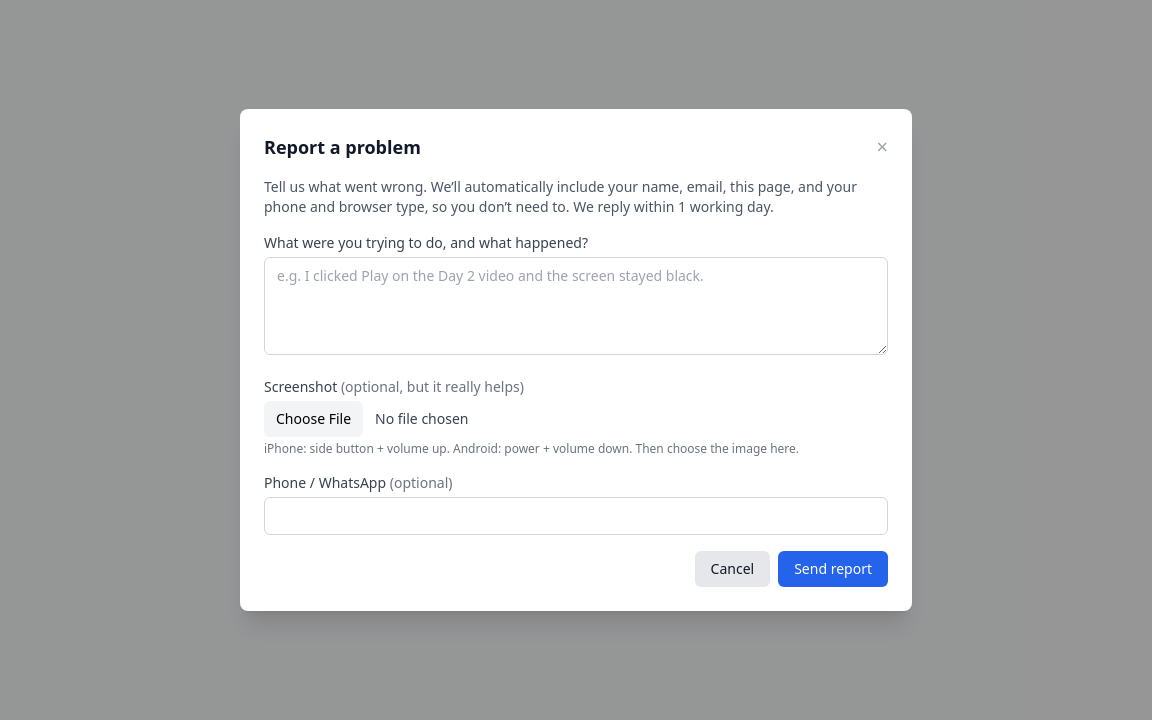
Scenario: ReportProblemDialog › sends the report and shows the reply-time promise
Replace the text in the text box labelled "What were you trying to do, and what happened?" with "The Day 2 video shows a black screen.": (576, 306) x1=264 y1=257 x2=888 y2=355
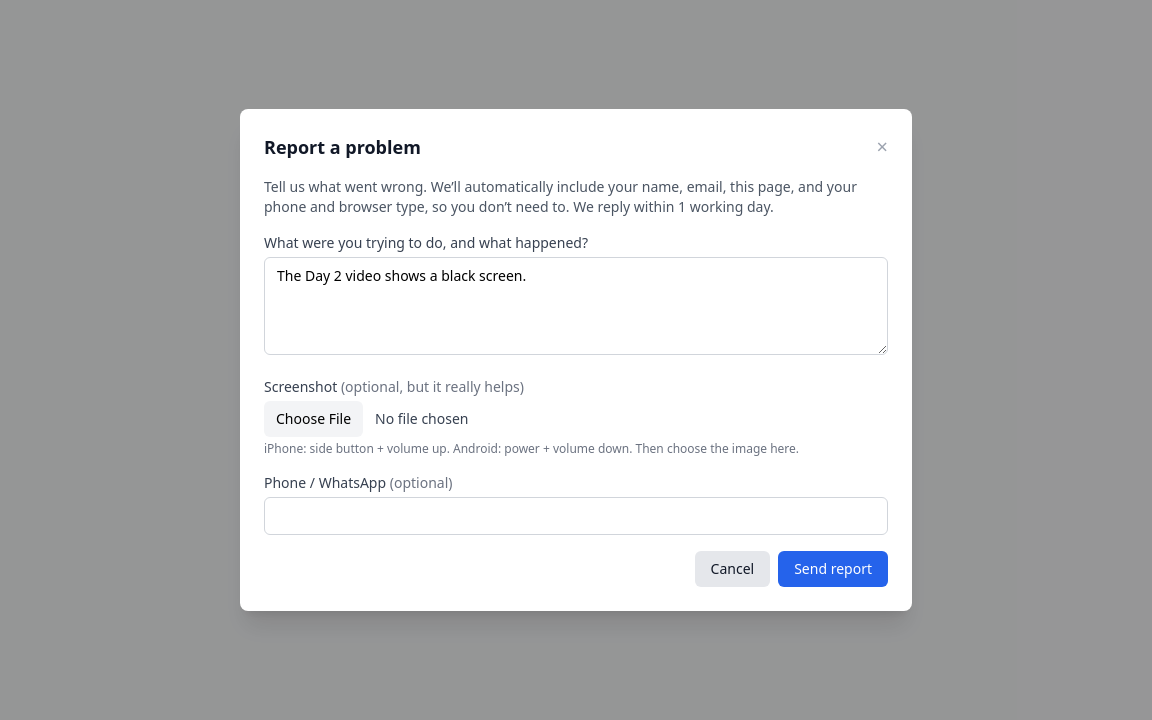
In the field labelled "Phone / WhatsApp (optional)": (576, 516) x1=264 y1=497 x2=888 y2=535, type "0802 735 1990"
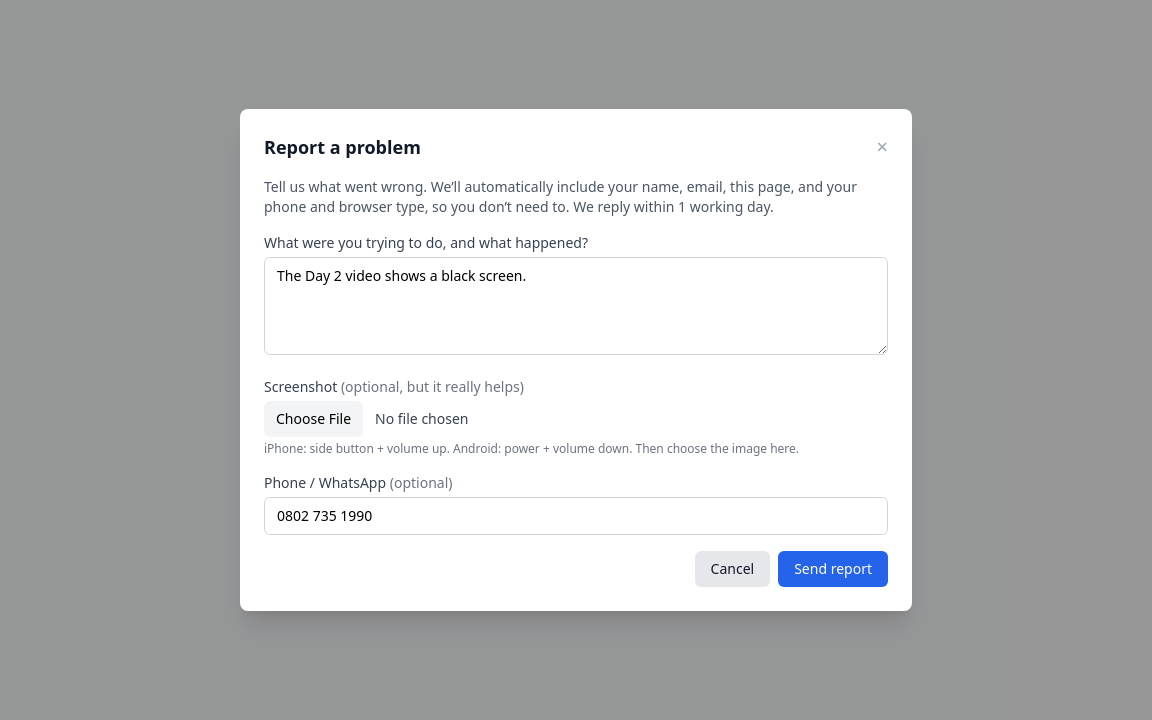
Click the button "Send report": (833, 569) x1=778 y1=551 x2=888 y2=587
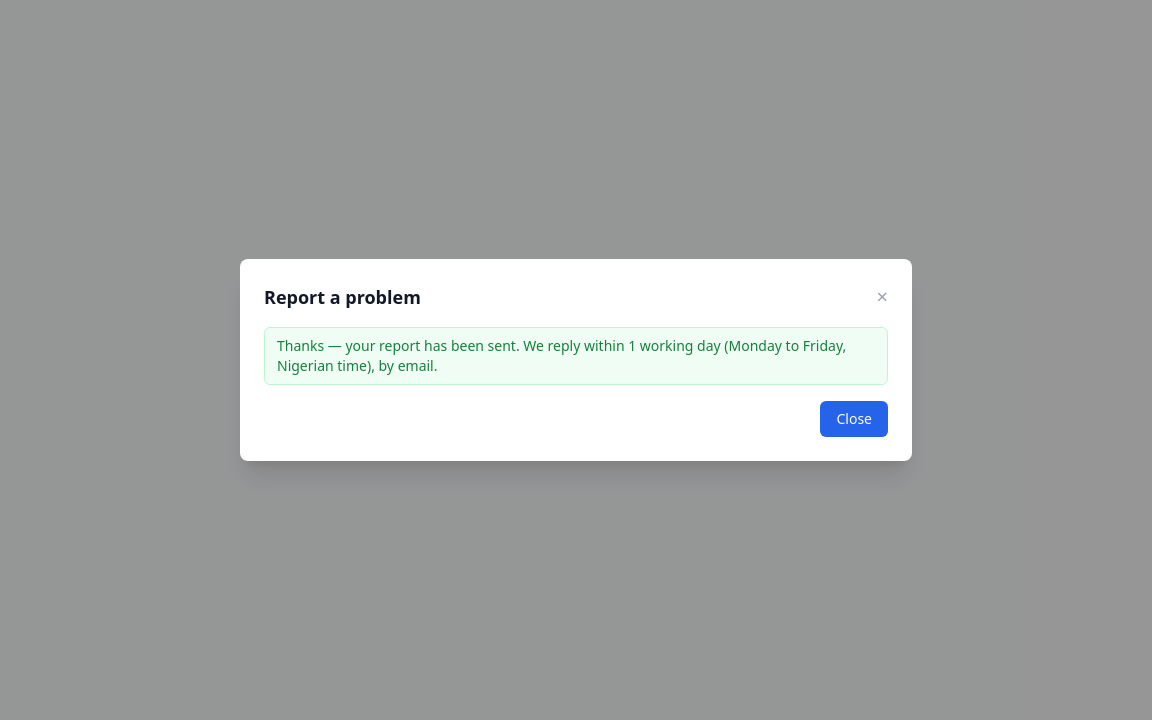
Expected: the text "We reply within 1 working day" is shown, x1=277 y1=336 x2=846 y2=375
